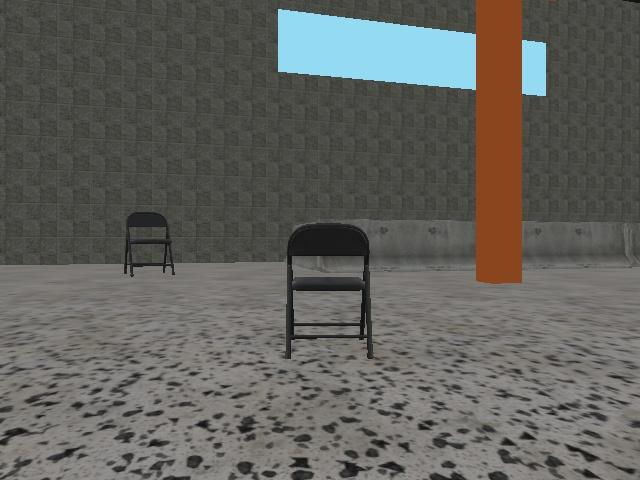chair: (283, 221, 376, 361), (123, 210, 177, 277)
